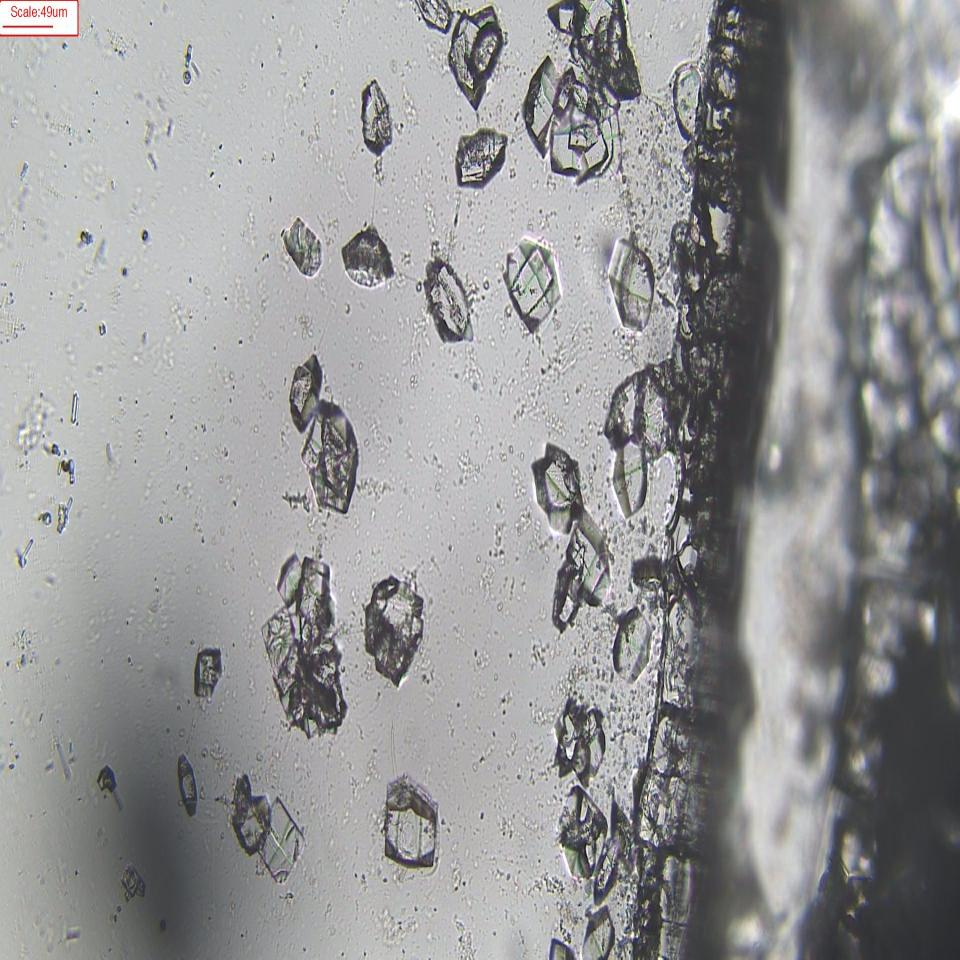crystal: (299, 396, 364, 516), (361, 574, 427, 679), (601, 229, 660, 335), (378, 784, 445, 875), (445, 0, 505, 97), (504, 238, 564, 334), (445, 125, 513, 202), (526, 434, 578, 534), (422, 259, 474, 341), (341, 226, 397, 301), (187, 635, 234, 709), (357, 82, 397, 168), (282, 347, 321, 428), (611, 436, 646, 524), (613, 594, 646, 684), (278, 217, 324, 278), (177, 758, 203, 822)
not_crystal: (529, 11, 620, 172), (262, 570, 342, 738), (608, 363, 685, 458)
